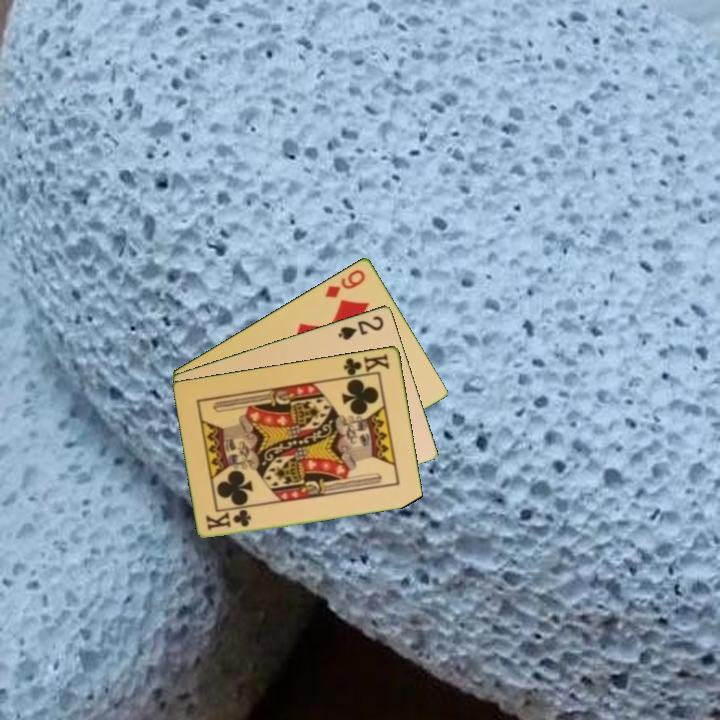2s: (335, 311, 387, 343)
9d: (321, 265, 368, 301)
Kc: (340, 350, 392, 380), (203, 506, 254, 533)
